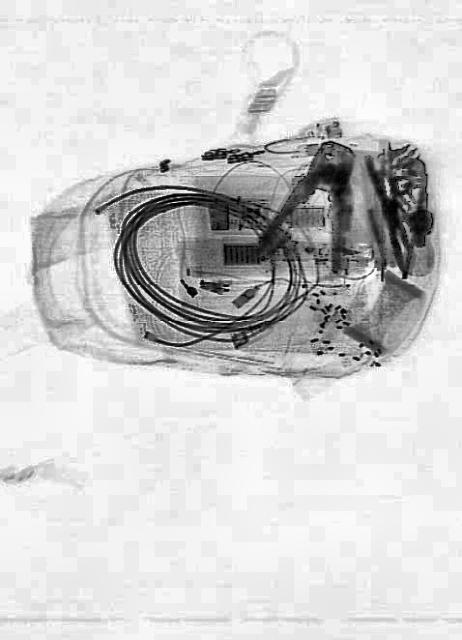Pliers: (262, 123, 372, 281)
